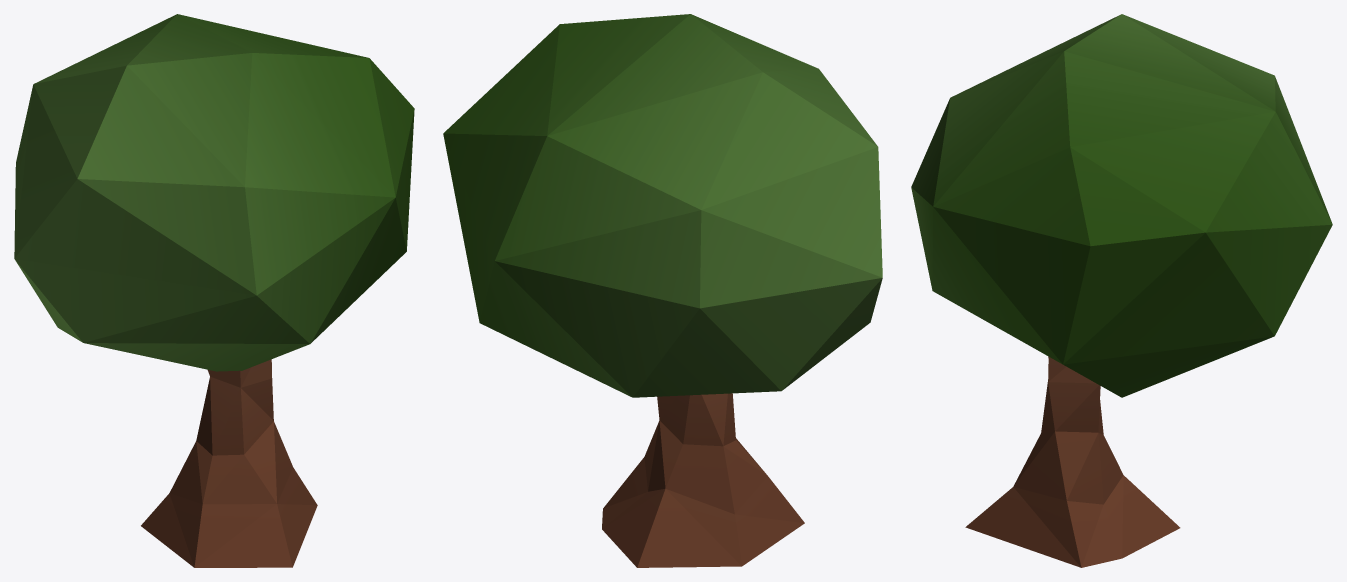
File: Tree_Green.fbx
The picture shows the model from 3 angles, left to right: view 1: azimuth 30°, elevation 25°; view 2: azimuth 150°, elevation 25°; view 3: azimuth 270°, elevation 25°; orthographic projection. The views are drawn at different scales.
Parts seen in each view (by area): view 1: Tree_Green; view 2: Tree_Green; view 3: Tree_Green.
Boxes of the visible parts, box(x1,y1,x2,y2) form: Tree_Green: box(14, 14, 414, 567); Tree_Green: box(443, 14, 882, 567); Tree_Green: box(911, 14, 1332, 567).
Bounding box in the file's own units: 4.39 × 5.2 × 4.14.
1 material, 1 textured.
